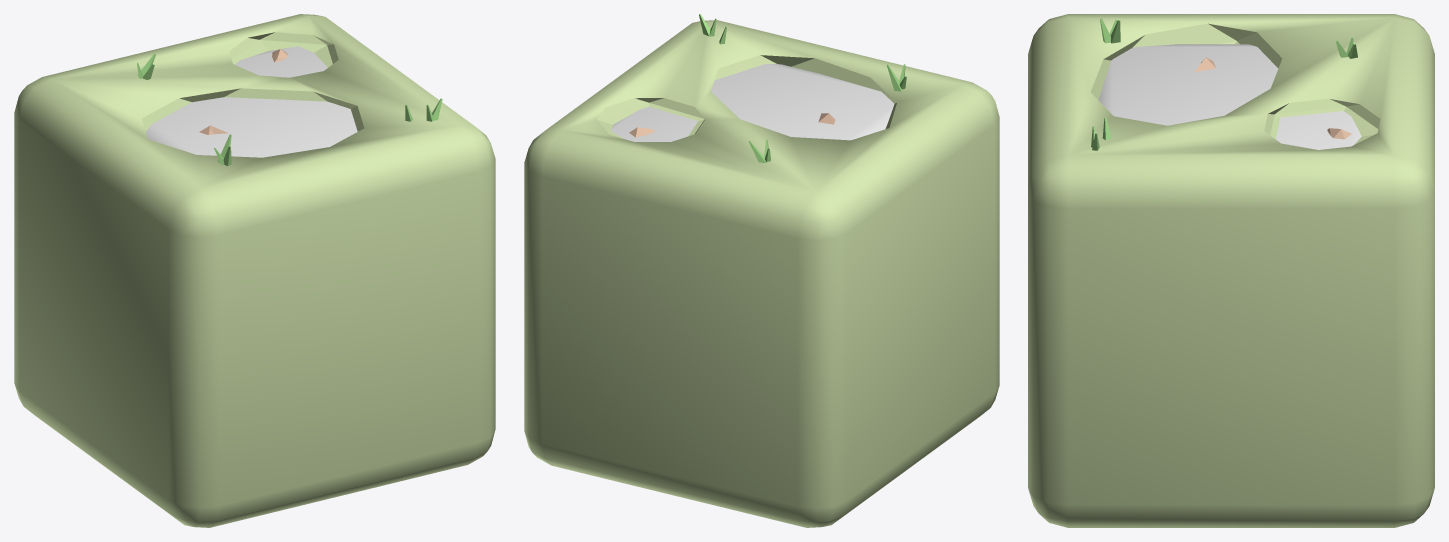
The model's file is pond2.fbx.
3 renders of one model, left to right at view 1: azimuth 30°, elevation 25°; view 2: azimuth 150°, elevation 25°; view 3: azimuth 270°, elevation 25°, orthographic. The views are drawn at different scales.
Parts seen in each view (by area): view 1: Cube.071, Cube.070; view 2: Cube.071, Cube.070; view 3: Cube.071, Cube.070.
Boxes of the visible parts, x1=… form: Cube.071: x1=14, y1=14, x2=495, y2=527; Cube.070: x1=145, y1=46, x2=357, y2=157; Cube.071: x1=524, y1=20, x2=999, y2=527; Cube.070: x1=610, y1=64, x2=894, y2=141; Cube.071: x1=1028, y1=14, x2=1434, y2=527; Cube.070: x1=1098, y1=44, x2=1361, y2=149.
Bounding box in the file's own units: 200 × 214 × 200.
